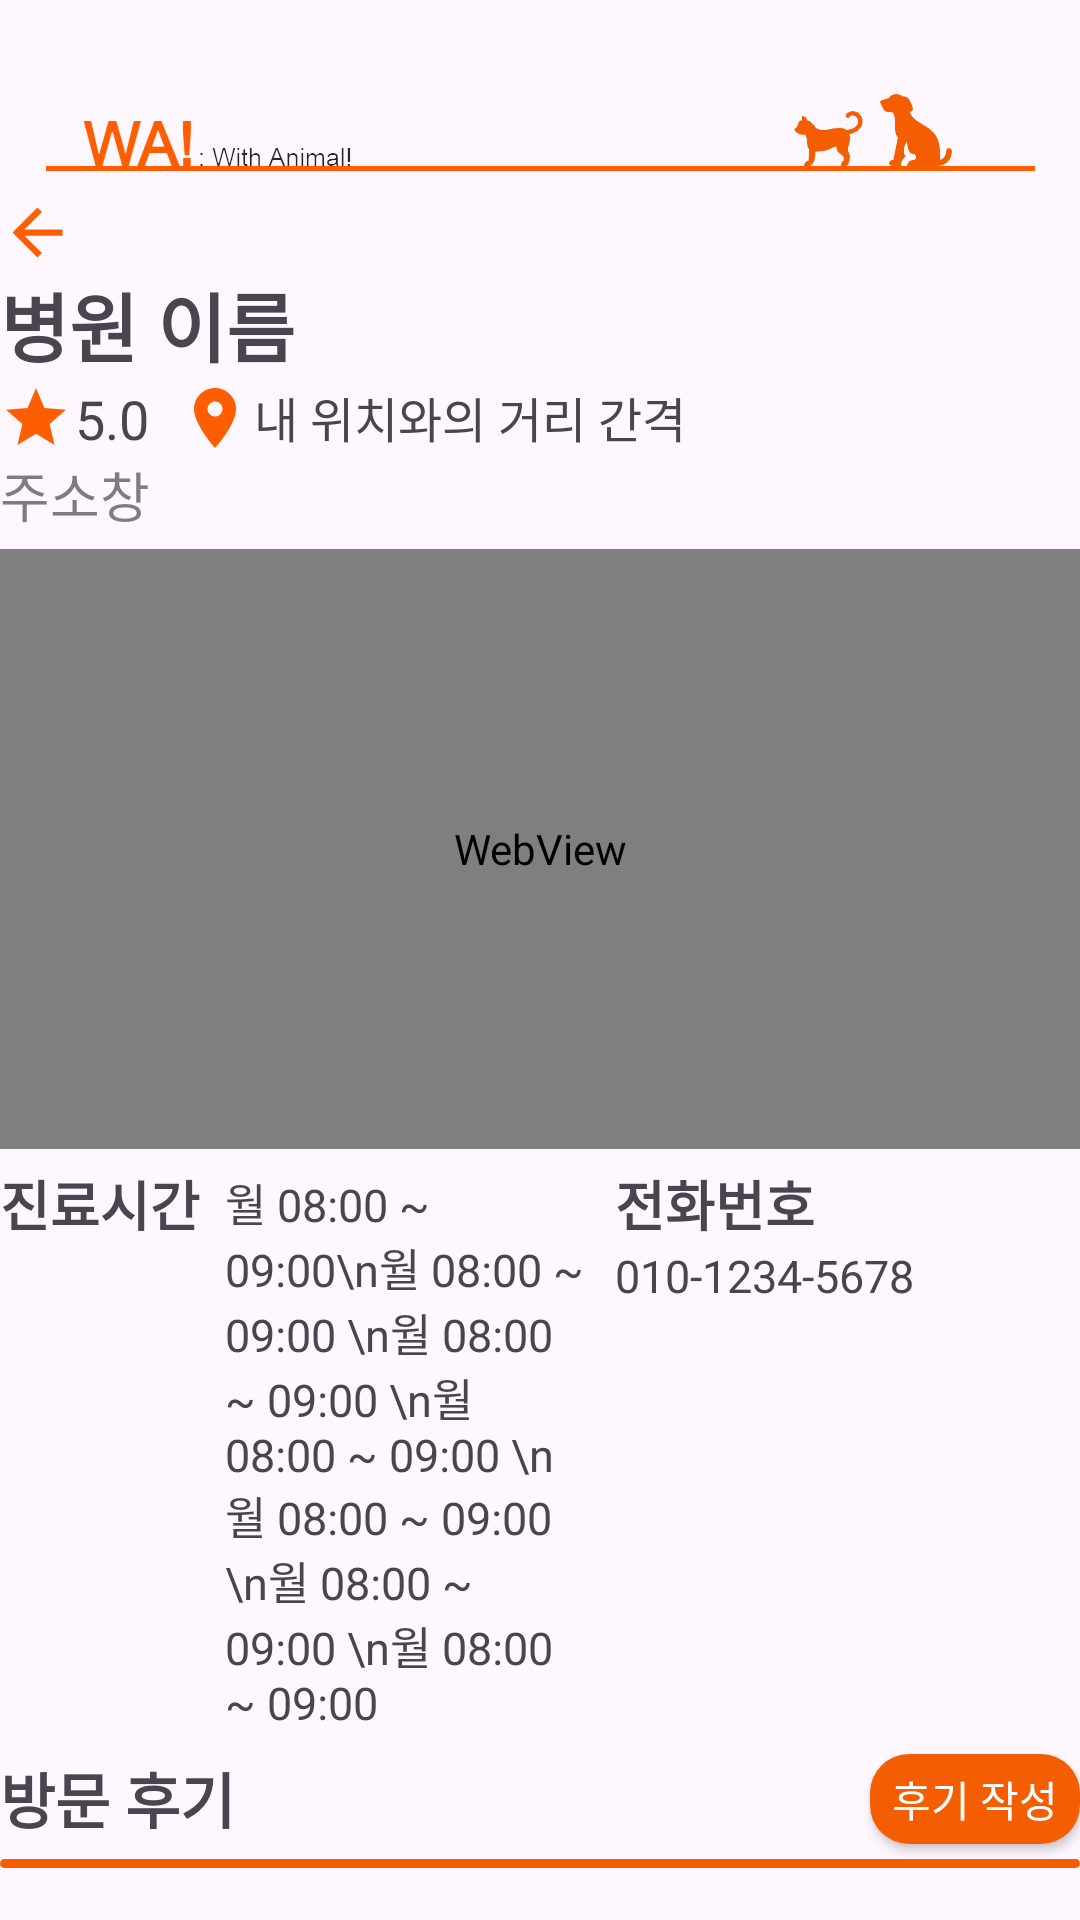

Icon click points for this 1080 x 1920 phone screenshot, format point (x, y):
place: point (215, 418)
star: point (36, 416)
